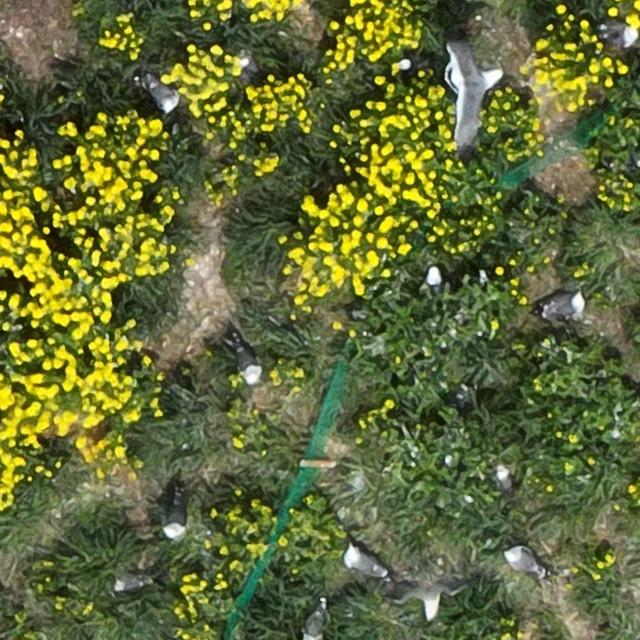F: (444, 54, 503, 152), (389, 580, 473, 619)
umineko: (146, 80, 177, 112), (542, 292, 583, 316), (504, 549, 540, 574), (347, 550, 383, 574), (600, 24, 637, 47), (166, 498, 184, 536), (239, 350, 259, 384), (304, 605, 323, 637), (114, 574, 144, 592), (426, 264, 444, 289)
